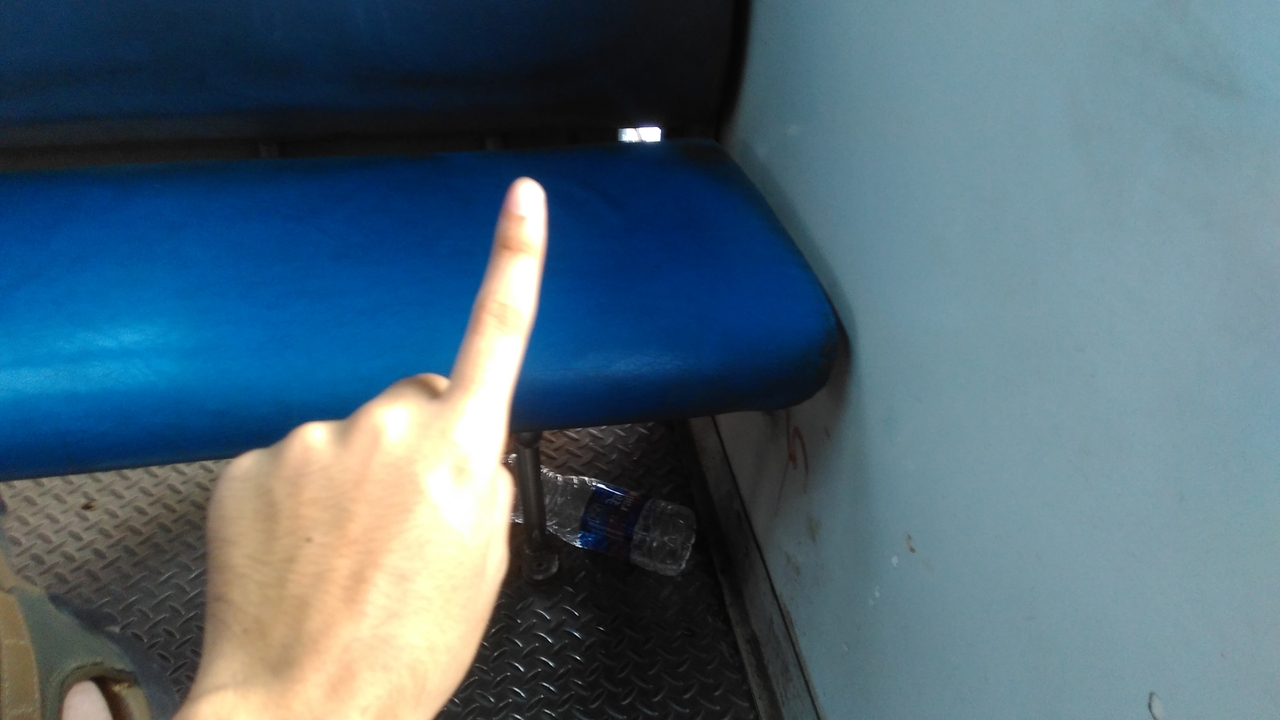fingertip: (486, 166, 554, 234)
